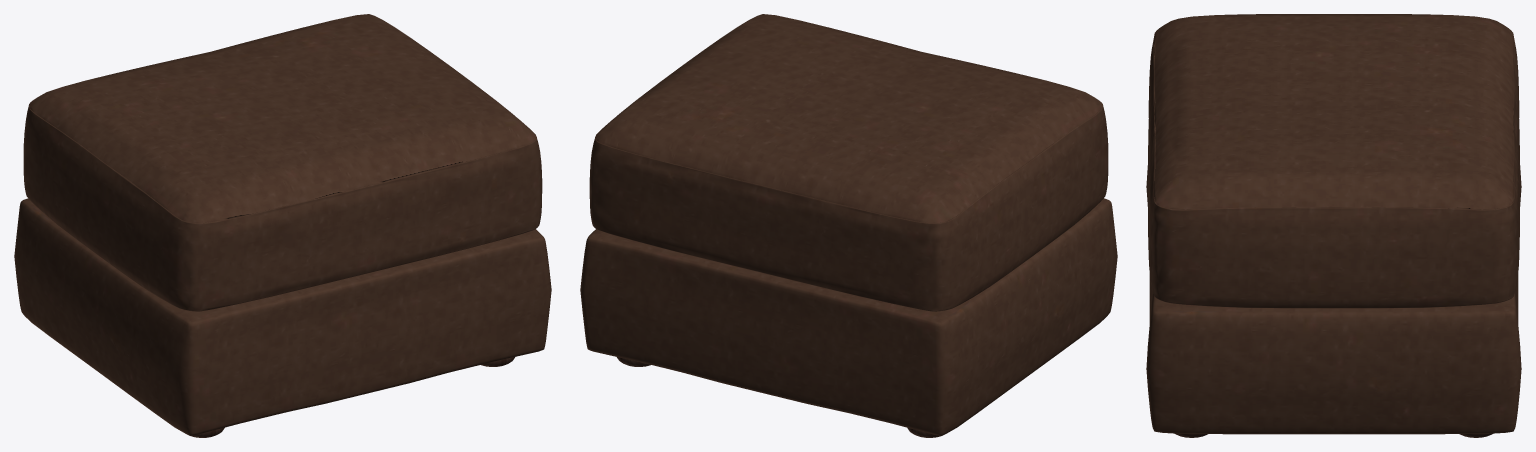
The model's file is B07QGSZ79Z.glb.
3 views of the same model, side by side, from view 1: azimuth 30°, elevation 25°; view 2: azimuth 150°, elevation 25°; view 3: azimuth 270°, elevation 25° (orthographic). The views are drawn at different scales.
Parts seen in each view (by area): view 1: RootNode; view 2: RootNode; view 3: RootNode.
Boxes of the visible parts, left/top/right/bottom form: RootNode: left=14, top=14, right=551, bottom=437; RootNode: left=580, top=14, right=1117, bottom=437; RootNode: left=1146, top=14, right=1521, bottom=437.
Bounding box in the file's own units: 0.751 × 0.476 × 0.6031.
Materials: 1 (1 with a texture image).
